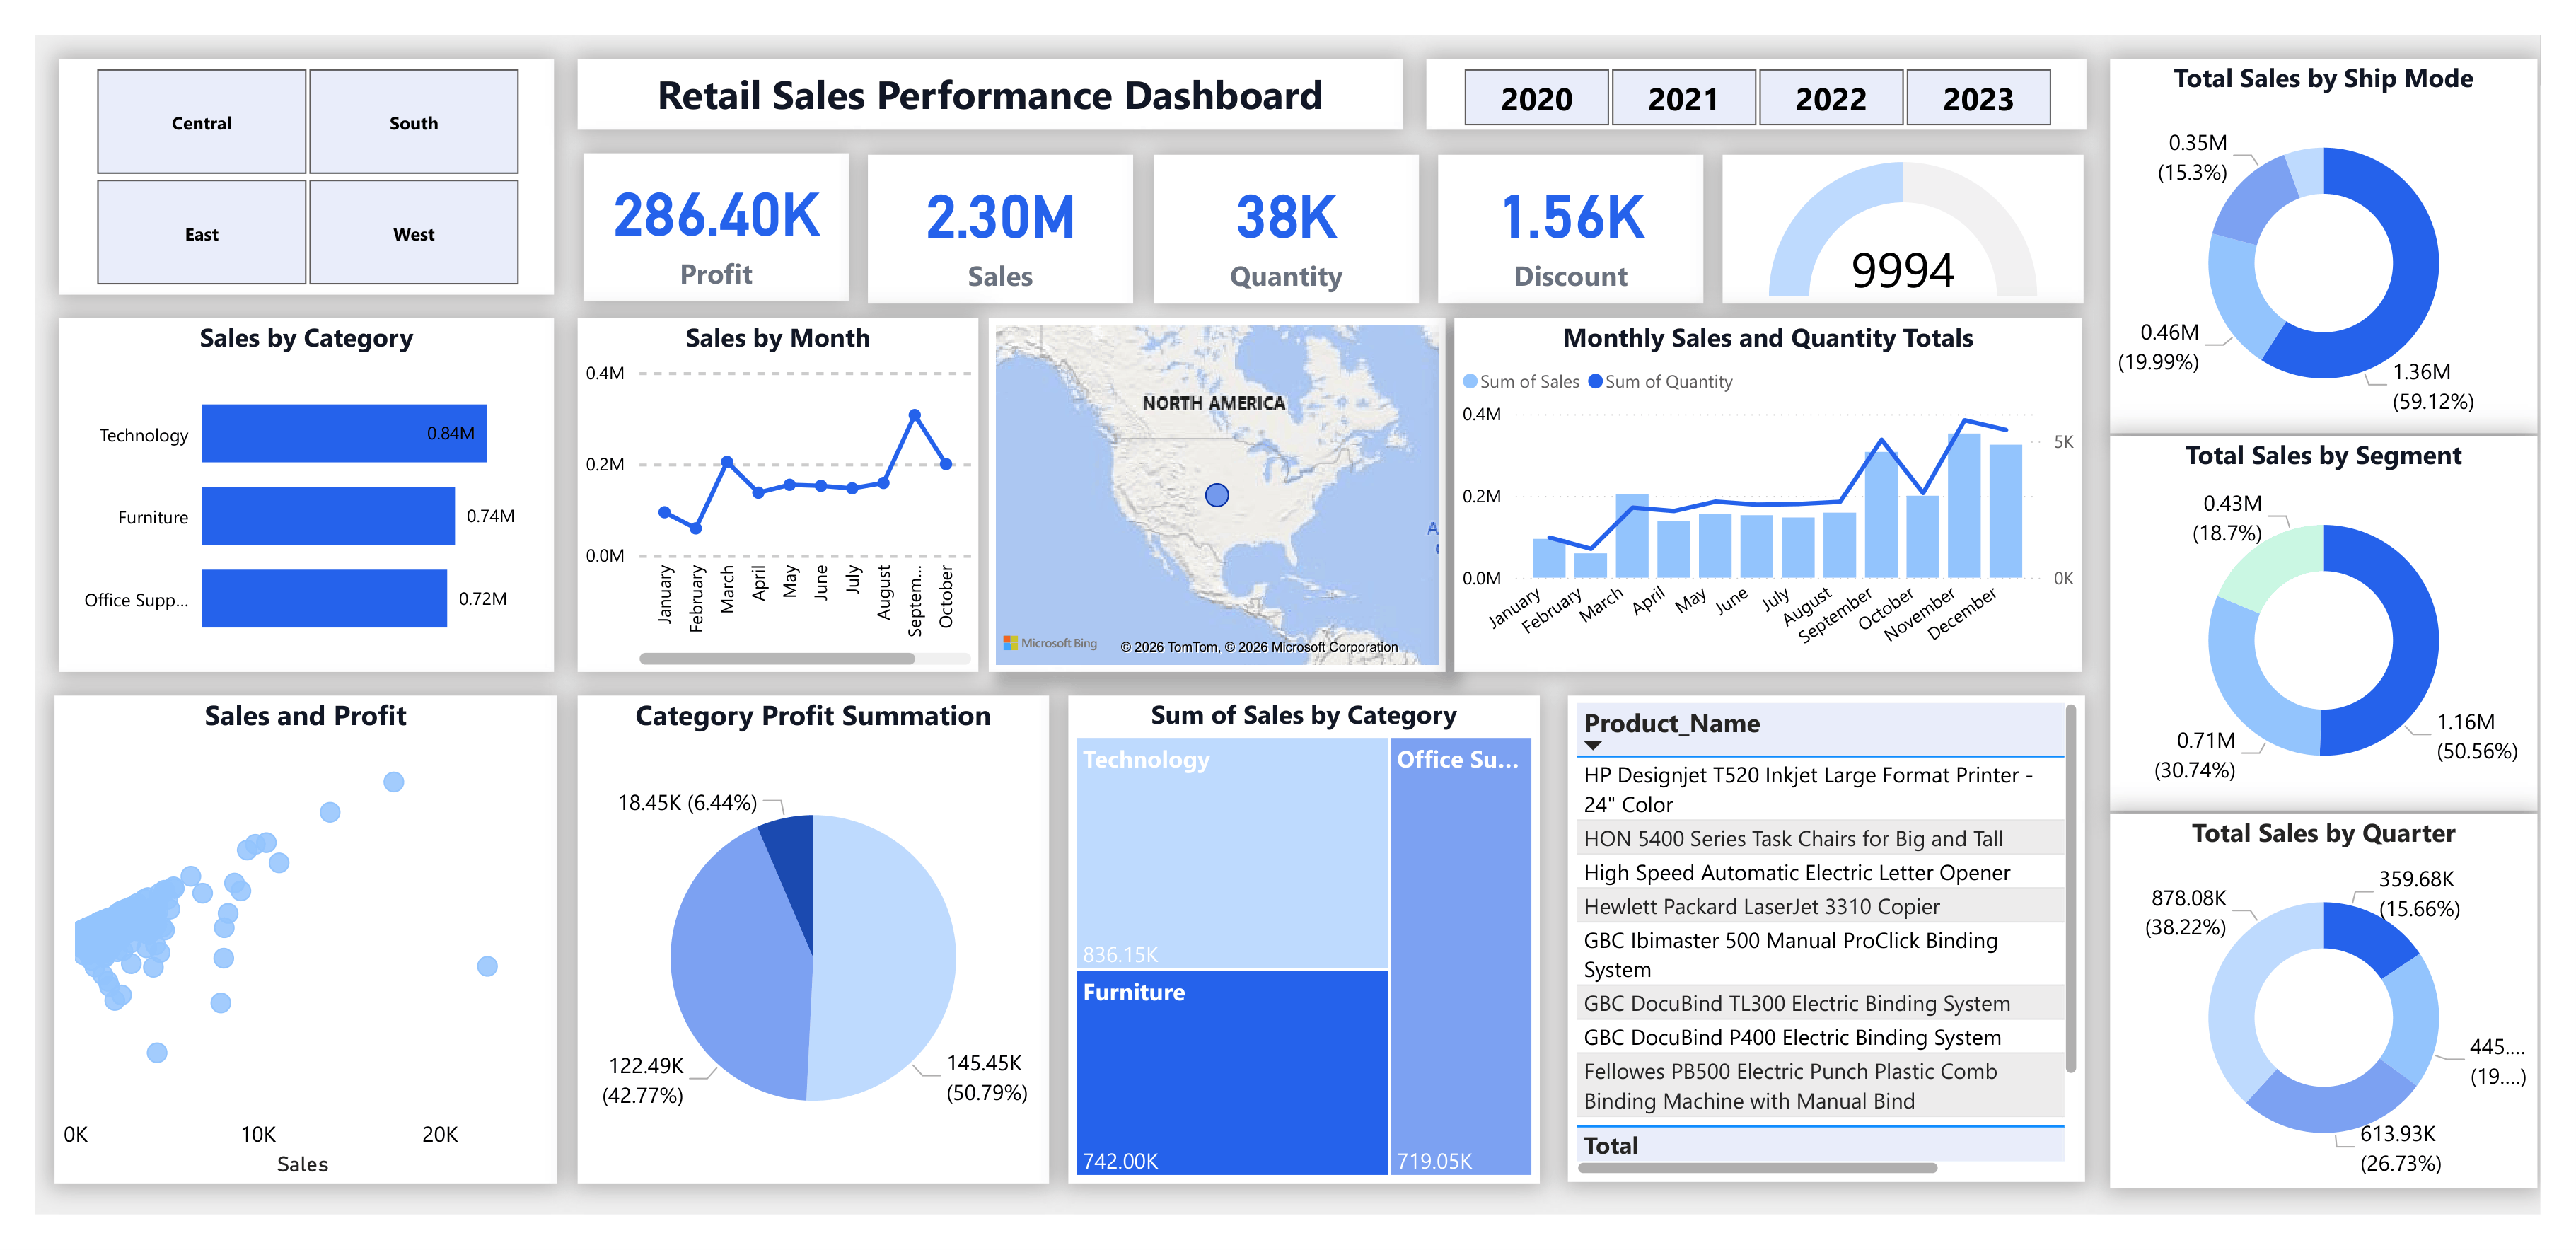

The page's visual inventory and layout, read from the dashboard file:
{"tool":"powerbi","page":{"name":"Dashboard","canvas":[1700,800],"ordinal":1},"visuals":[{"type":"slicer","fields":{"Values":["sample_superstore_Order.Region"]},"box":[16,16,336,160],"z":0},{"type":"textbox","box":[368,16,560,48],"z":1000},{"type":"slicer","fields":{"Values":["Superstore_Orders_Data.Order_Date.Variation.Date Hierarchy.Year"]},"box":[944,16,448,48],"z":2000},{"type":"card","fields":{"Values":["Sum(sample_superstore_Order.Profit)"]},"box":[372.1,79.7,180,100],"z":3000},{"type":"card","fields":{"Values":["Sum(sample_superstore_Order.Sales)"]},"box":[565.4,80.9,180,100.7],"z":4000},{"type":"card","fields":{"Values":["Sum(sample_superstore_Order.Quantity)"]},"box":[758.7,80.9,180,100.7],"z":5000},{"type":"card","fields":{"Values":["Sum(sample_superstore_Order.Discount)"]},"box":[951.9,80.9,180,100.7],"z":6000},{"type":"gauge","fields":{"Y":["CountNonNull(Superstore_Orders_Data.Order_Date)"]},"box":[1145.2,80.9,244.5,100.7],"z":7000},{"type":"barChart","title":"Sales by Category","fields":{"Category":["sample_superstore_Order.Category"],"Y":["Sum(sample_superstore_Order.Sales)"]},"box":[16,192,336,240],"z":8000},{"type":"lineChart","title":"Sales by Month","fields":{"Y":["Sum(sample_superstore_Order.Sales)"],"Category":["Superstore_Orders_Data.Order_Date.Variation.Date Hierarchy.Month"]},"box":[368,192,272,240],"z":9000},{"type":"map","fields":{"Category":["sample_superstore_Order.Country"],"Size":["Sum(sample_superstore_Order.Sales)"]},"box":[647,192,310,240],"z":10000},{"type":"lineStackedColumnComboChart","title":"Monthly Sales and Quantity Totals","fields":{"Category":["Superstore_Orders_Data.Order_Date.Variation.Date Hierarchy.Month"],"Y":["Sum(sample_superstore_Order.Sales)"],"Y2":["Sum(sample_superstore_Order.Quantity)"]},"box":[962.5,192,426,240],"z":11000},{"type":"scatterChart","fields":{"X":["Sum(sample_superstore_Order.Sales)"],"Y":["Sum(sample_superstore_Order.Profit)"]},"box":[12.6,448,341.6,330.8],"z":12000},{"type":"pieChart","title":"Category Profit Summation","fields":{"Category":["sample_superstore_Order.Category"],"Y":["Sum(sample_superstore_Order.Profit)"]},"box":[367.6,448,320,330.8],"z":13000},{"type":"treemap","fields":{"Group":["sample_superstore_Order.Category"],"Values":["Sum(sample_superstore_Order.Sales)"]},"box":[701.1,448,320,330.8],"z":14000},{"type":"tableEx","fields":{"Values":["Superstore_Orders_Data.Product_Name","Sum(Superstore_Orders_Data.Sales)"]},"box":[1040,448,351,330],"z":15000},{"type":"donutChart","title":"Total Sales by Ship Mode","fields":{"Y":["Sum(sample_superstore_Order.Sales)"],"Category":["Superstore_Orders_Data.Ship_Mode"]},"box":[1408,16,290,254],"z":16000},{"type":"donutChart","title":"Total Sales by Segment","fields":{"Y":["Sum(sample_superstore_Order.Sales)"],"Category":["sample_superstore_Order.Segment"]},"box":[1408,272,290,254],"z":17000},{"type":"donutChart","title":"Total Sales by Quarter","fields":{"Y":["Sum(sample_superstore_Order.Sales)"],"Category":["Superstore_Orders_Data.Order_Date.Variation.Date Hierarchy.Quarter"]},"box":[1408,528,290,254],"z":18000}]}

Visuals, with their boxes on the page's 1700x800 design canvas (x1, y1, x2, y2). These are canvas units, not pixel positions in the 2576x1250 screenshot, which may show the page scaled, cropped or inside an application window:
slicer - sample_superstore_Order.Region: {"left": 16, "top": 16, "right": 352, "bottom": 176}
textbox: {"left": 368, "top": 16, "right": 928, "bottom": 64}
slicer - Superstore_Orders_Data.Order_Date.Variation.Date Hierarchy.Year: {"left": 944, "top": 16, "right": 1392, "bottom": 64}
card - Sum(sample_superstore_Order.Profit): {"left": 372, "top": 80, "right": 552, "bottom": 180}
card - Sum(sample_superstore_Order.Sales): {"left": 565, "top": 81, "right": 745, "bottom": 182}
card - Sum(sample_superstore_Order.Quantity): {"left": 759, "top": 81, "right": 939, "bottom": 182}
card - Sum(sample_superstore_Order.Discount): {"left": 952, "top": 81, "right": 1132, "bottom": 182}
gauge - CountNonNull(Superstore_Orders_Data.Order_Date): {"left": 1145, "top": 81, "right": 1390, "bottom": 182}
"Sales by Category" barChart: {"left": 16, "top": 192, "right": 352, "bottom": 432}
"Sales by Month" lineChart: {"left": 368, "top": 192, "right": 640, "bottom": 432}
map - sample_superstore_Order.Country x Sum(sample_superstore_Order.Sales): {"left": 647, "top": 192, "right": 957, "bottom": 432}
"Monthly Sales and Quantity Totals" lineStackedColumnComboChart: {"left": 962, "top": 192, "right": 1388, "bottom": 432}
scatterChart - Sum(sample_superstore_Order.Sales) x Sum(sample_superstore_Order.Profit): {"left": 13, "top": 448, "right": 354, "bottom": 779}
"Category Profit Summation" pieChart: {"left": 368, "top": 448, "right": 688, "bottom": 779}
treemap - sample_superstore_Order.Category x Sum(sample_superstore_Order.Sales): {"left": 701, "top": 448, "right": 1021, "bottom": 779}
tableEx - Superstore_Orders_Data.Product_Name x Sum(Superstore_Orders_Data.Sales): {"left": 1040, "top": 448, "right": 1391, "bottom": 778}
"Total Sales by Ship Mode" donutChart: {"left": 1408, "top": 16, "right": 1698, "bottom": 270}
"Total Sales by Segment" donutChart: {"left": 1408, "top": 272, "right": 1698, "bottom": 526}
"Total Sales by Quarter" donutChart: {"left": 1408, "top": 528, "right": 1698, "bottom": 782}
